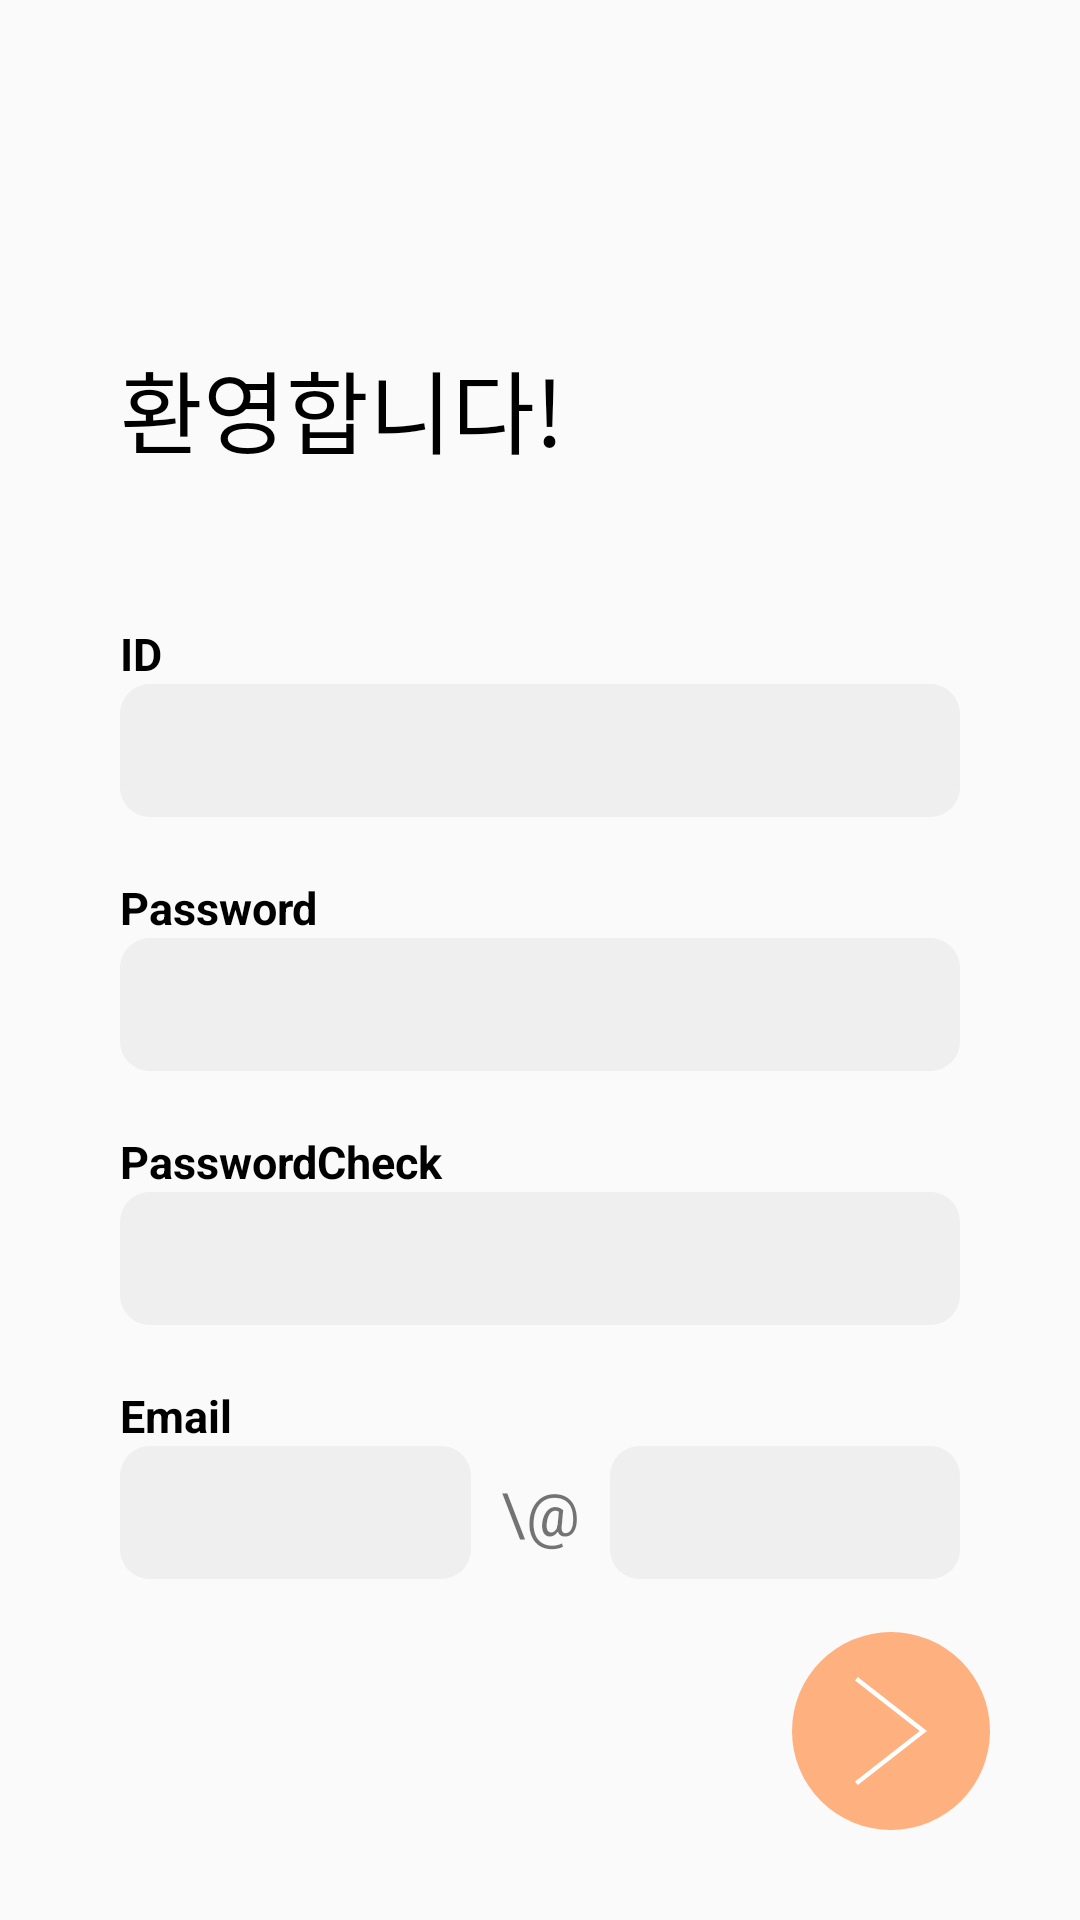

Icon click points for this 1080 × 1920 phone screenshot, format (x=x, y=y):
arrow: (x=891, y=1731)
